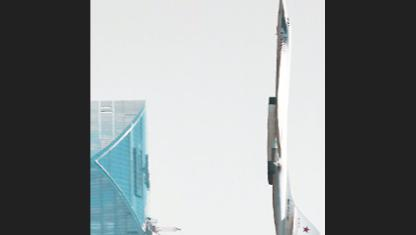Su34: (268, 0, 322, 234)
